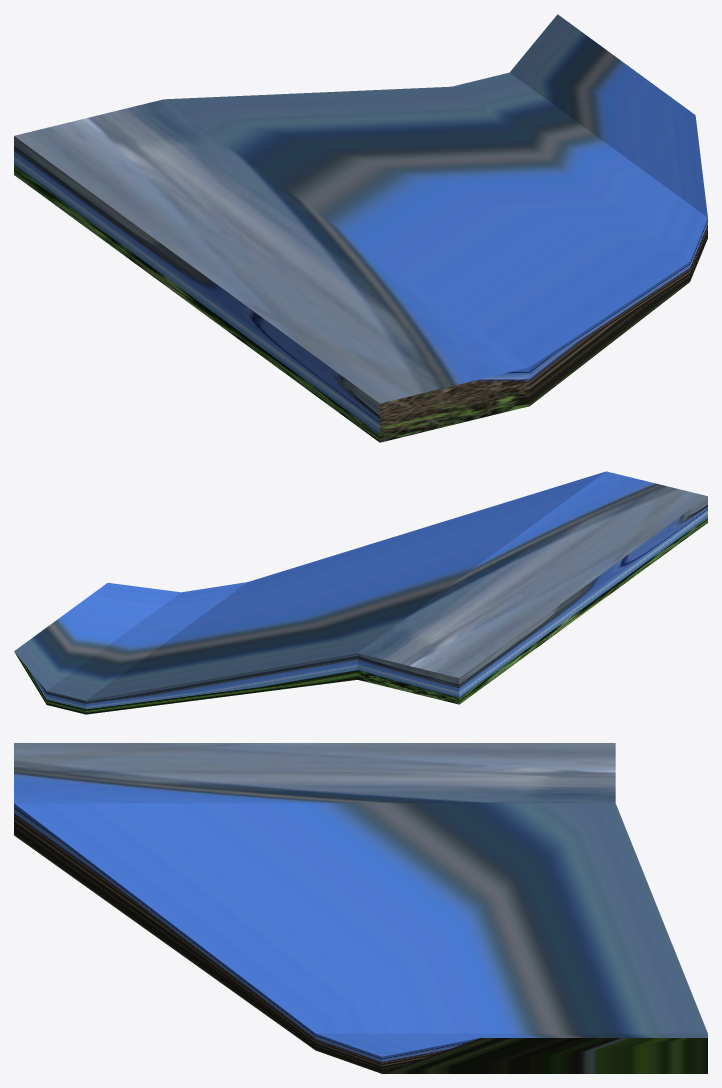
The picture shows the model from 3 angles, top to bottom: view 1: azimuth 30°, elevation 25°; view 2: azimuth 150°, elevation 25°; view 3: azimuth 270°, elevation 25°; orthographic projection. The views are drawn at different scales.
Parts seen in each view (by area): view 1: Wing-2.003_Cube.041; view 2: Wing-2.003_Cube.041; view 3: Wing-2.003_Cube.041.
Boxes of the visible parts, x1,y1,x2,y2 form: Wing-2.003_Cube.041: (14,14,707,442); Wing-2.003_Cube.041: (14,471,707,714); Wing-2.003_Cube.041: (14,743,707,1073).
Size of the model in its own units: 6.06 by 1.28 by 7.38.
